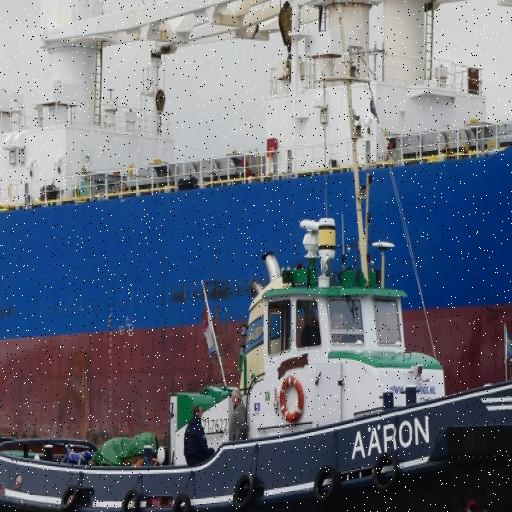tugboat: (1, 212, 512, 512)
